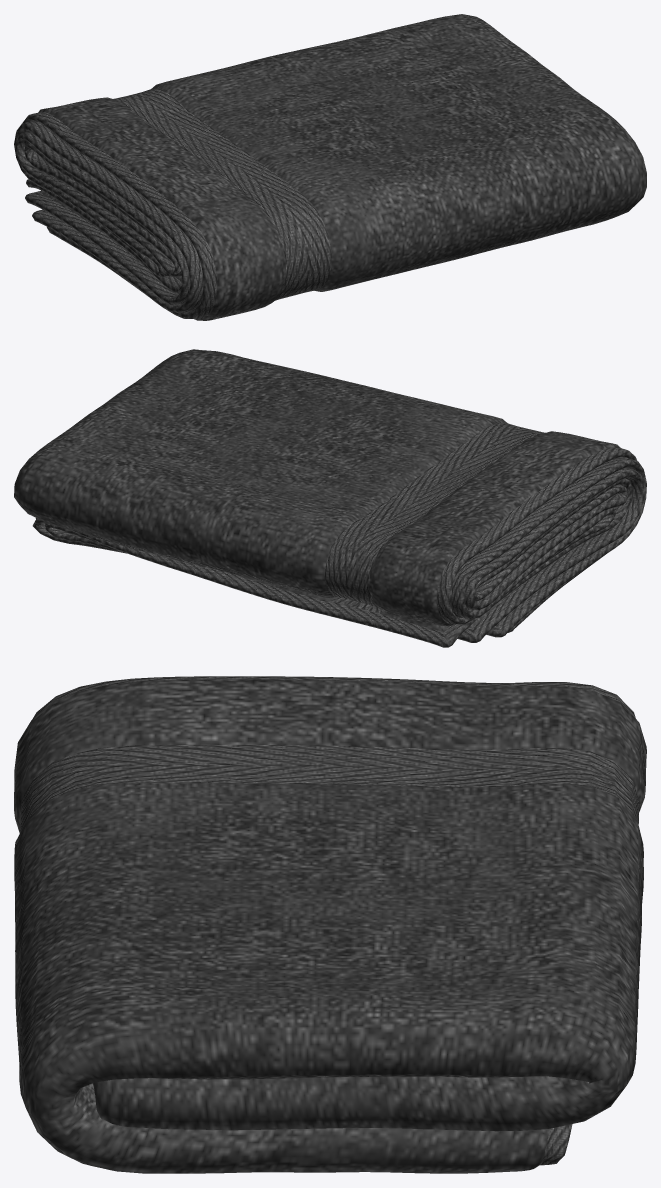
File: black_towel.fbx
3 views of the same model, one above another, from view 1: azimuth 30°, elevation 25°; view 2: azimuth 150°, elevation 25°; view 3: azimuth 270°, elevation 25° (orthographic). The views are drawn at different scales.
Parts seen in each view (by area): view 1: BlackTowel001, BlackTowel002; view 2: BlackTowel001, BlackTowel002; view 3: BlackTowel001, BlackTowel002.
Part boxes in pixels (box(x1,y1,x2,y2)): BlackTowel001: box(29, 14, 646, 320); BlackTowel002: box(14, 88, 331, 318); BlackTowel001: box(14, 349, 628, 631); BlackTowel002: box(32, 422, 646, 647); BlackTowel001: box(14, 679, 646, 1173); BlackTowel002: box(20, 676, 639, 1165).
Size of what is drawn, in the model's own units: 36.01 by 26.07 by 7.71.
